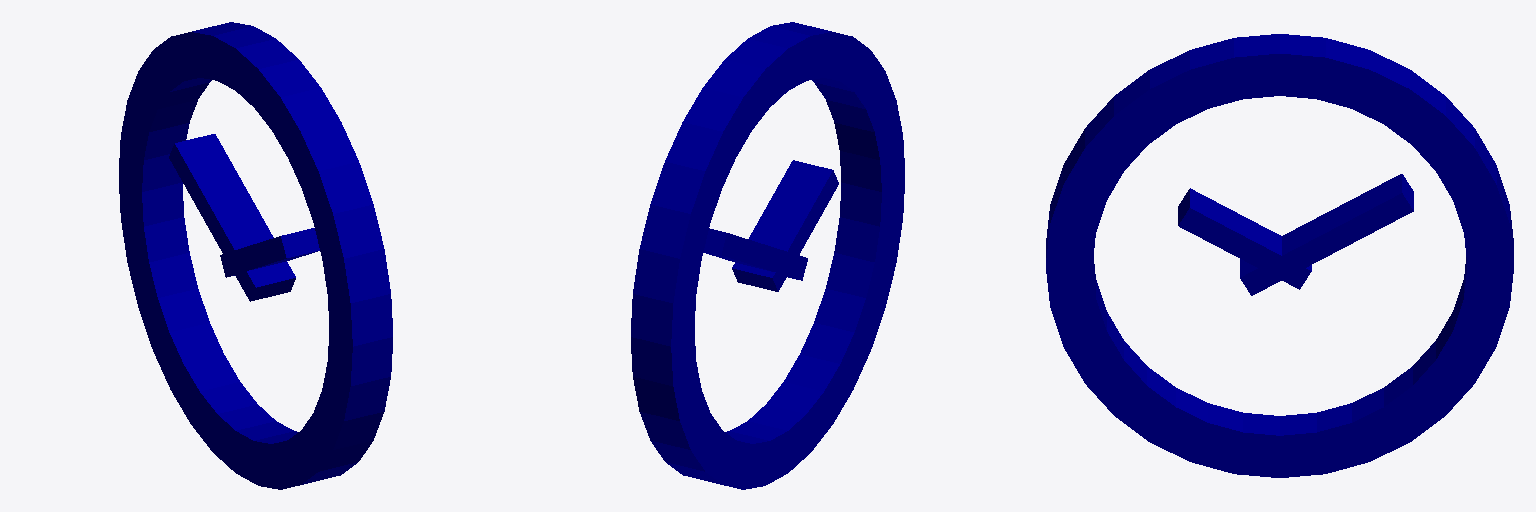
Rendered from clock.obj.
3 views of the same model, side by side, from view 1: azimuth 30°, elevation 25°; view 2: azimuth 150°, elevation 25°; view 3: azimuth 270°, elevation 25° (orthographic).
Parts seen in each view (by area): view 1: Circle.001; view 2: Circle.001; view 3: Circle.001.
Part boxes in pixels (x1,y1,x2,y2): Circle.001: (119, 22, 392, 489); Circle.001: (631, 22, 904, 489); Circle.001: (1046, 34, 1513, 477).
Bounding box in the file's own units: 0.2 × 2 × 2.